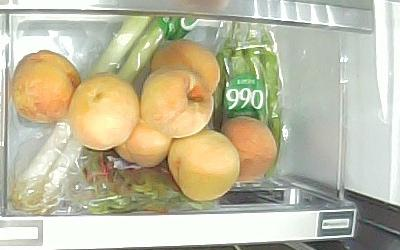peach: (68, 74, 141, 151), (138, 66, 213, 139), (11, 50, 82, 123), (167, 130, 240, 200), (151, 38, 220, 95), (222, 117, 277, 181), (115, 118, 173, 168)
